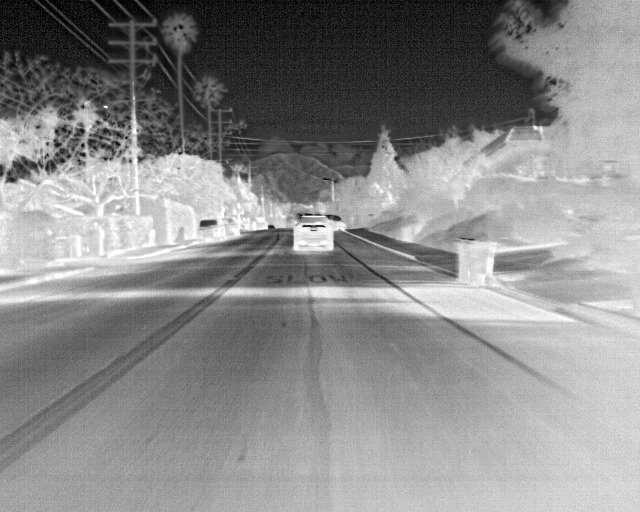vehicle: (292, 214, 336, 253), (197, 216, 225, 246)
